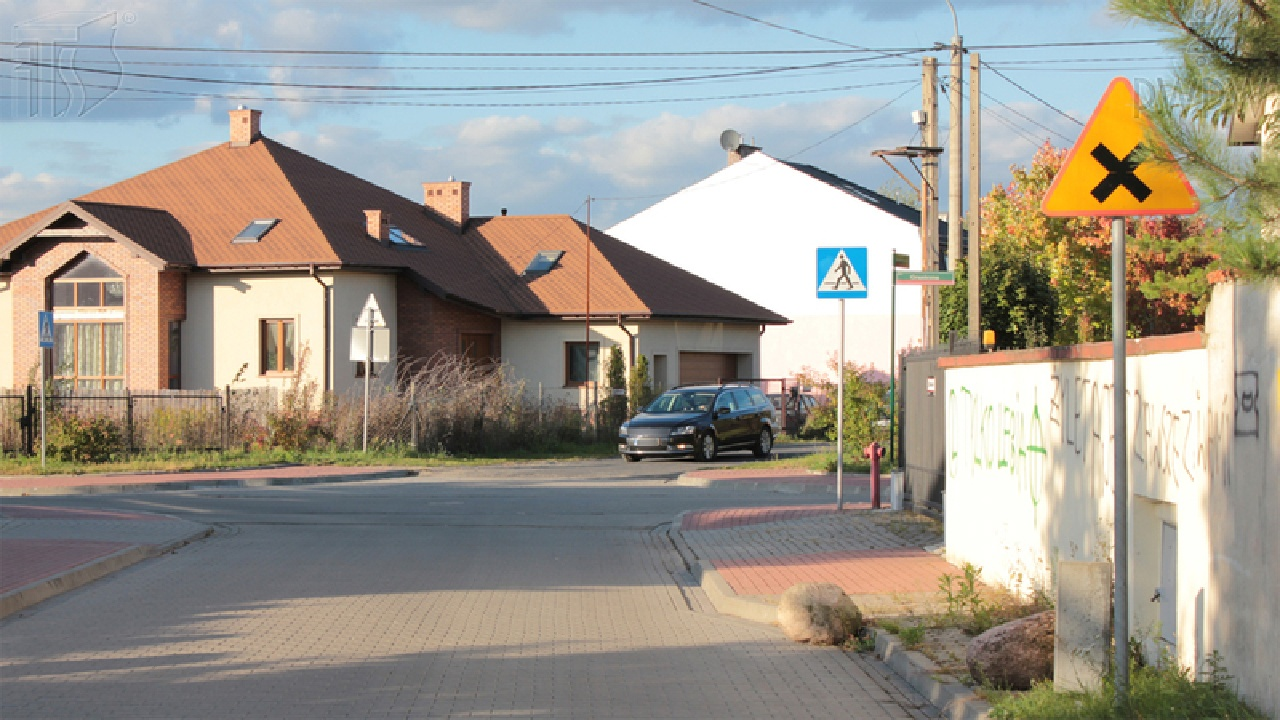A5: (1042, 78, 1200, 216)
D6: (816, 247, 867, 299)
